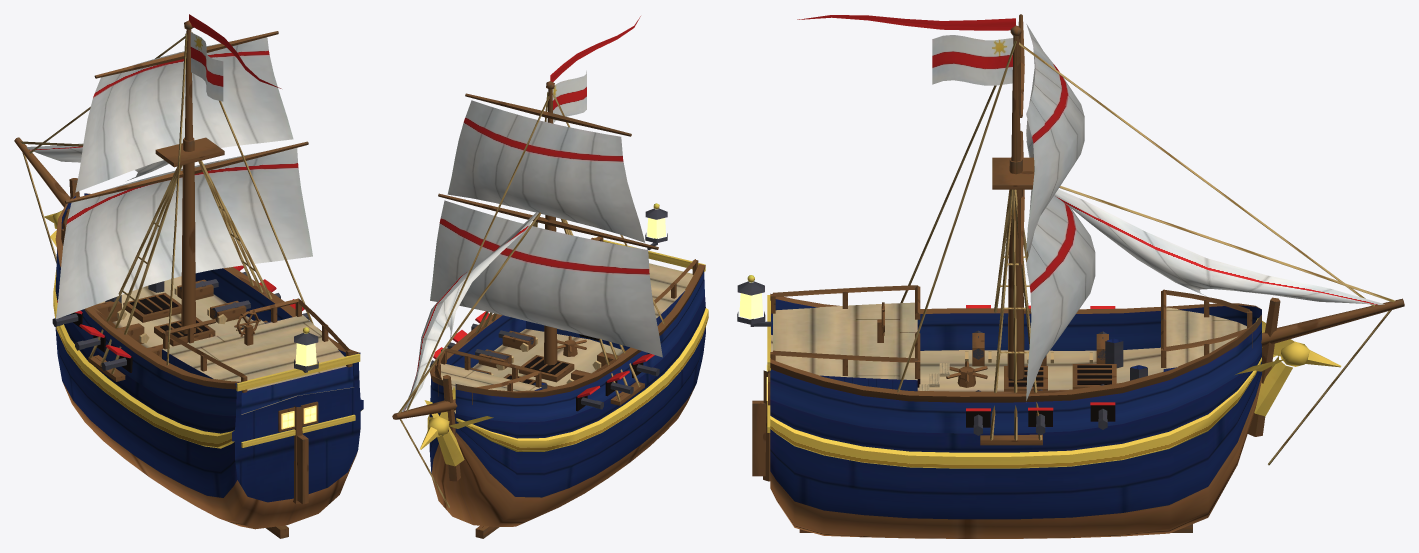
Rendered from navy_sloop.glb.
The picture shows the model from 3 angles, left to right: view 1: azimuth 30°, elevation 25°; view 2: azimuth 150°, elevation 25°; view 3: azimuth 270°, elevation 25°; orthographic projection. The views are drawn at different scales.
Parts seen in each view (by area): view 1: Hull, Sail0_0, Sail0_1, Rigging, Guns0, Flag, Jib; view 2: Hull, Sail0_0, Sail0_1, Rigging, Jib, Guns0, Flag; view 3: Hull, Rigging, Sail0_0, Jib, Sail0_1, Flag, Guns0.
Boxes of the visible parts, x1=… form: Hull: x1=44, y1=178, x2=363, y2=538; Sail0_0: x1=56, y1=148, x2=312, y2=318; Sail0_1: x1=75, y1=37, x2=293, y2=192; Rigging: x1=14, y1=20, x2=313, y2=374; Guns0: x1=52, y1=272, x2=309, y2=370; Flag: x1=189, y1=14, x2=281, y2=101; Jib: x1=26, y1=143, x2=168, y2=180; Hull: x1=420, y1=203, x2=708, y2=538; Sail0_0: x1=430, y1=200, x2=662, y2=357; Sail0_1: x1=447, y1=100, x2=644, y2=242; Rigging: x1=392, y1=81, x2=664, y2=507; Jib: x1=402, y1=212, x2=538, y2=411; Guns0: x1=429, y1=323, x2=659, y2=409; Flag: x1=550, y1=16, x2=640, y2=122; Hull: x1=737, y1=275, x2=1341, y2=538; Rigging: x1=897, y1=14, x2=1404, y2=465; Sail0_0: x1=1026, y1=140, x2=1095, y2=400; Jib: x1=1054, y1=189, x2=1384, y2=304; Sail0_1: x1=1026, y1=24, x2=1084, y2=252; Flag: x1=797, y1=15, x2=1015, y2=85; Guns0: x1=965, y1=330, x2=1108, y2=435.
Size of the model in its own units: 1.5 by 2.53 by 2.99.
Materials: 8 (8 with a texture image).
